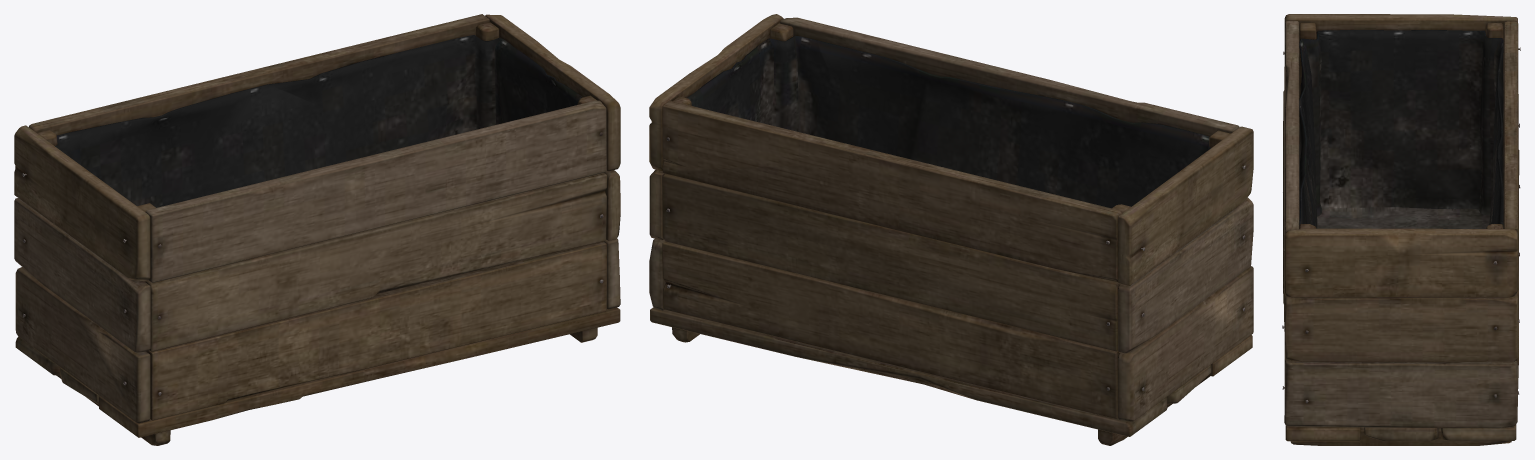
Rendered from planter_box_01.glb.
3 views of the same model, side by side, from view 1: azimuth 30°, elevation 25°; view 2: azimuth 150°, elevation 25°; view 3: azimuth 270°, elevation 25° (orthographic). The views are drawn at different scales.
Visible parts, largest first — view 1: planter_box_01; view 2: planter_box_01; view 3: planter_box_01.
Boxes of the visible parts, x1,y1,x2,y2 form: planter_box_01: [14, 14, 620, 445]; planter_box_01: [649, 14, 1253, 445]; planter_box_01: [1282, 14, 1520, 445].
Bounding box in the file's own units: 0.9126 × 0.4249 × 0.4137.
1 material, 1 textured.
